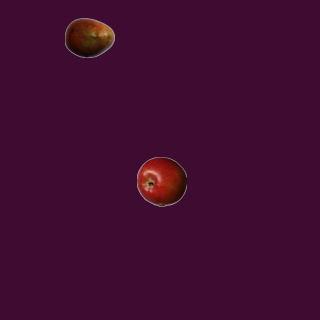Apple Braeburn: (136, 156, 186, 206)
Mango Red: (64, 12, 114, 62)
